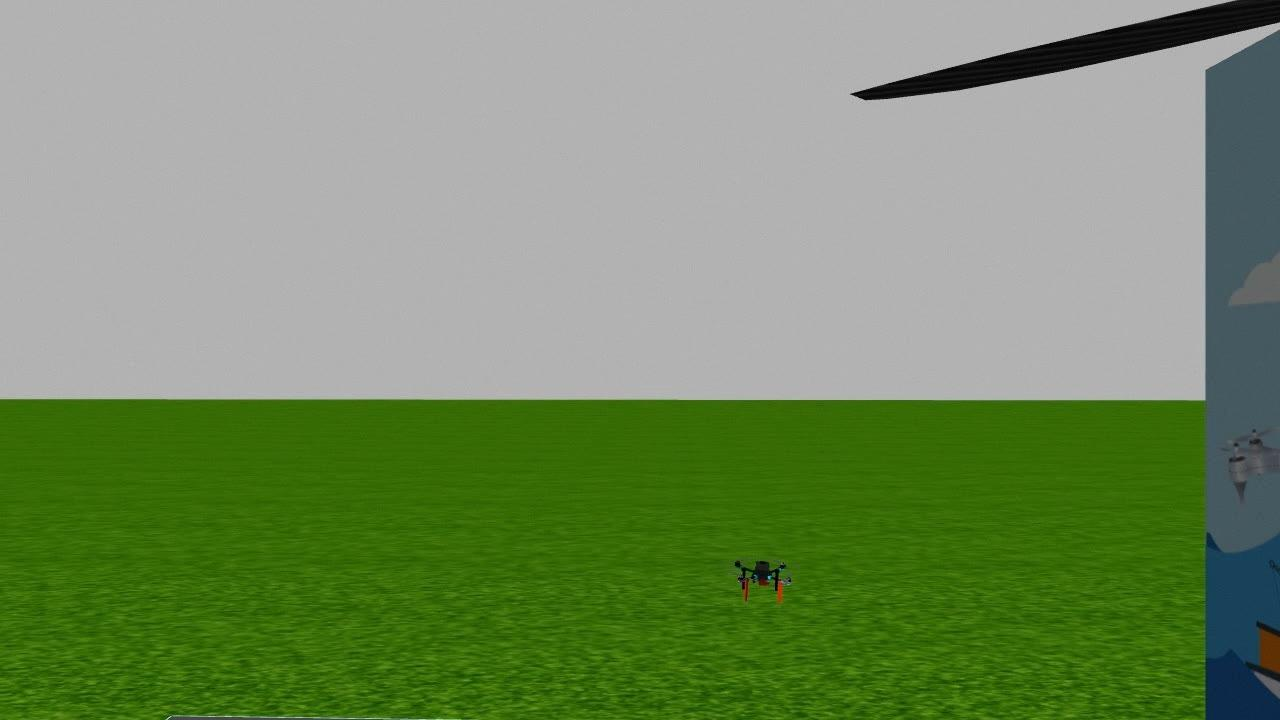UAV: (709, 544, 815, 613)
